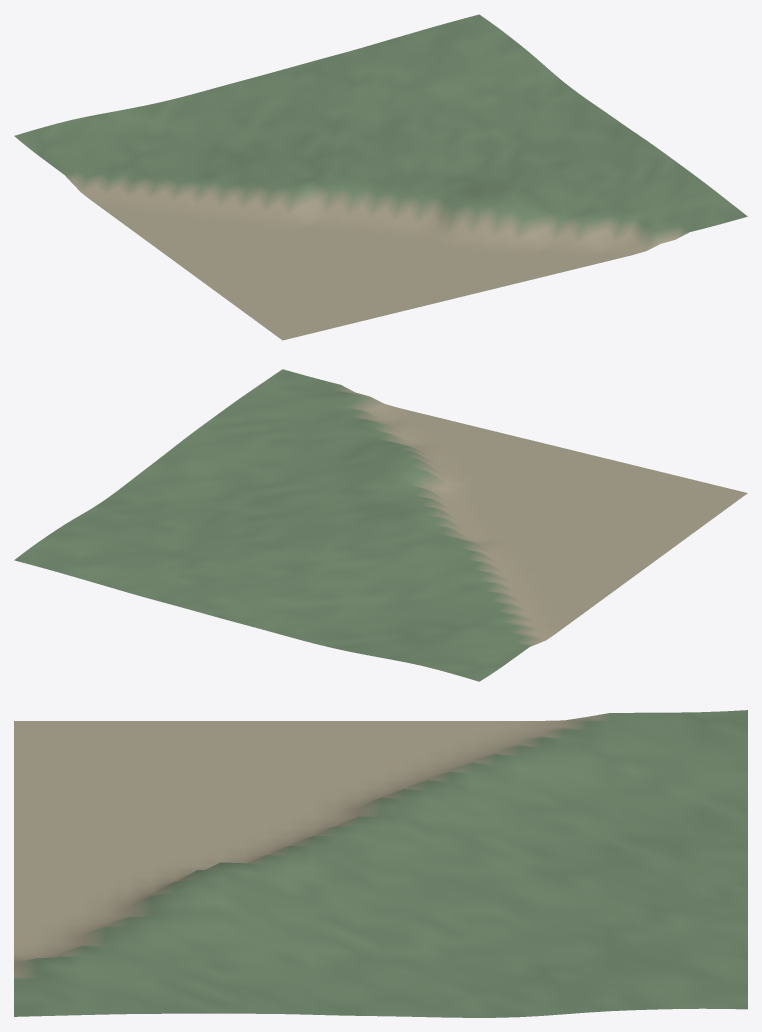
3 views of the same model, one above another, from view 1: azimuth 30°, elevation 25°; view 2: azimuth 150°, elevation 25°; view 3: azimuth 270°, elevation 25° (orthographic). The views are drawn at different scales.
Visible parts, largest first — view 1: Terrain-col; view 2: Terrain-col; view 3: Terrain-col.
Boxes of the visible parts, x1,y1,x2,y2 form: Terrain-col: [14, 14, 747, 340]; Terrain-col: [14, 369, 747, 681]; Terrain-col: [14, 710, 747, 1017].
Size of the model in its own units: 256 by 9.93 by 256.
